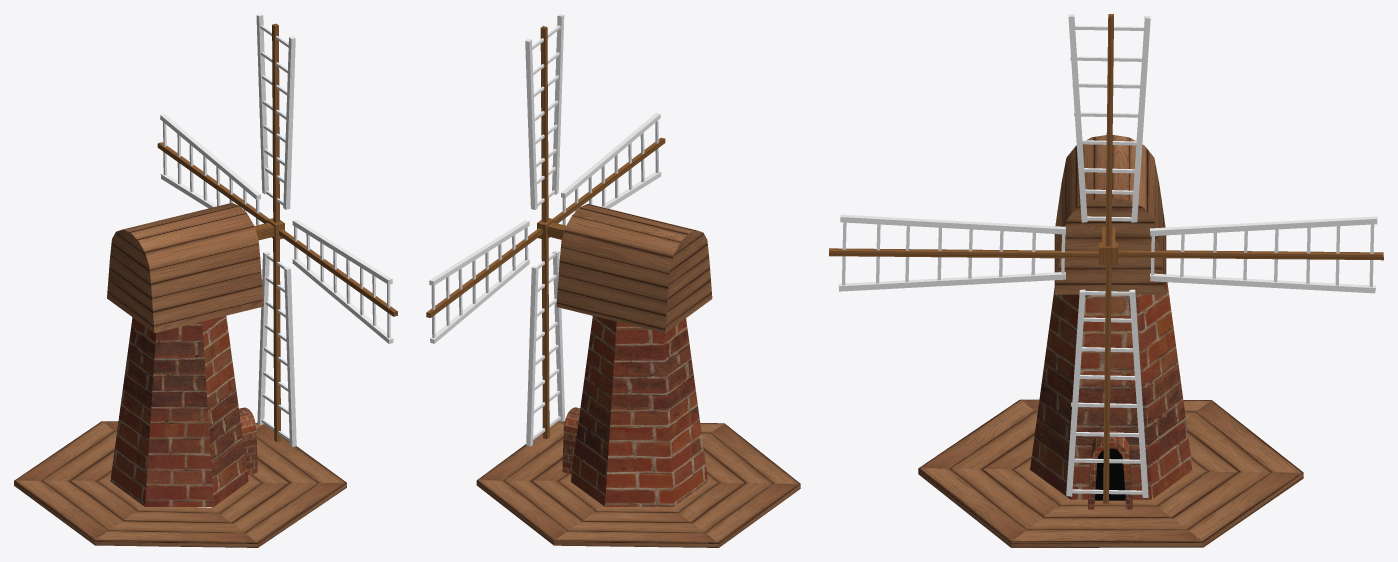
Rendered from windmilltexIn.fbx.
3 renders of one model, left to right at view 1: azimuth 30°, elevation 25°; view 2: azimuth 150°, elevation 25°; view 3: azimuth 270°, elevation 25°, orthographic. The views are drawn at different scales.
Visible parts, largest first — view 1: windmill:Cylinder.002, windmill:Cube.004, windmill:windmill:polySurface132, windmill:polySurface131, windmill:pCube5; view 2: windmill:Cylinder.002, windmill:Cube.004, windmill:windmill:polySurface132, windmill:polySurface131, windmill:pCube5; view 3: windmill:Cube.004, windmill:windmill:polySurface132, windmill:Cylinder.002, windmill:polySurface131, windmill:pCube5, windmill:pCube6.
Part boxes in pixels (x1,y1,x2,y2): windmill:Cylinder.002: (110, 316, 248, 506); windmill:Cube.004: (14, 421, 346, 547); windmill:windmill:polySurface132: (157, 14, 397, 446); windmill:polySurface131: (107, 203, 263, 332); windmill:pCube5: (239, 407, 257, 474); windmill:Cylinder.002: (570, 316, 707, 506); windmill:Cube.004: (476, 421, 800, 547); windmill:windmill:polySurface132: (426, 14, 665, 446); windmill:polySurface131: (556, 204, 712, 333); windmill:pCube5: (562, 407, 580, 473); windmill:Cube.004: (918, 399, 1303, 547); windmill:windmill:polySurface132: (829, 14, 1383, 503); windmill:Cylinder.002: (1030, 282, 1192, 499); windmill:polySurface131: (1054, 135, 1166, 294); windmill:pCube5: (1088, 430, 1132, 509); windmill:pCube6: (1095, 448, 1125, 500).
Bounding box in the file's own units: 10281 × 17361 × 16913.
Materials: 5 (5 with a texture image).
